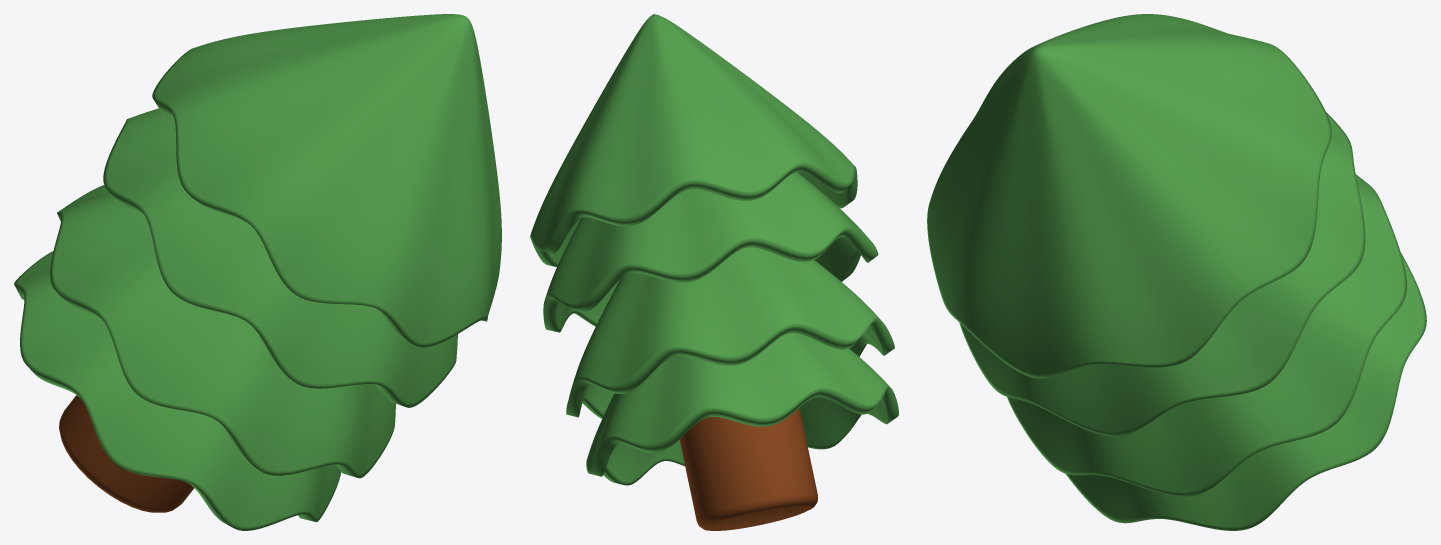
File: Tree.fbx
The picture shows the model from 3 angles, left to right: view 1: azimuth 30°, elevation 25°; view 2: azimuth 150°, elevation 25°; view 3: azimuth 270°, elevation 25°; orthographic projection. The views are drawn at different scales.
Visible parts, largest first — view 1: Circle.022, Tree 1.022; view 2: Circle.022, Tree 1.022; view 3: Circle.022.
Part boxes in pixels (x1=…): Circle.022: x1=14, y1=14, x2=501, y2=530; Tree 1.022: x1=59, y1=395, x2=193, y2=512; Circle.022: x1=530, y1=14, x2=898, y2=485; Tree 1.022: x1=679, y1=408, x2=817, y2=530; Circle.022: x1=927, y1=14, x2=1426, y2=530.
Bounding box in the file's own units: 276 × 321 × 273.
